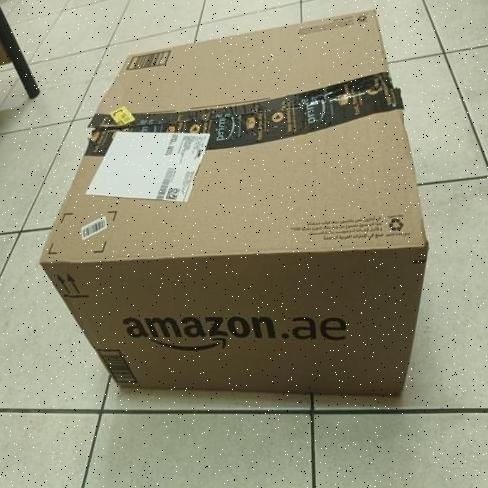Amazon: (39, 7, 428, 422)
